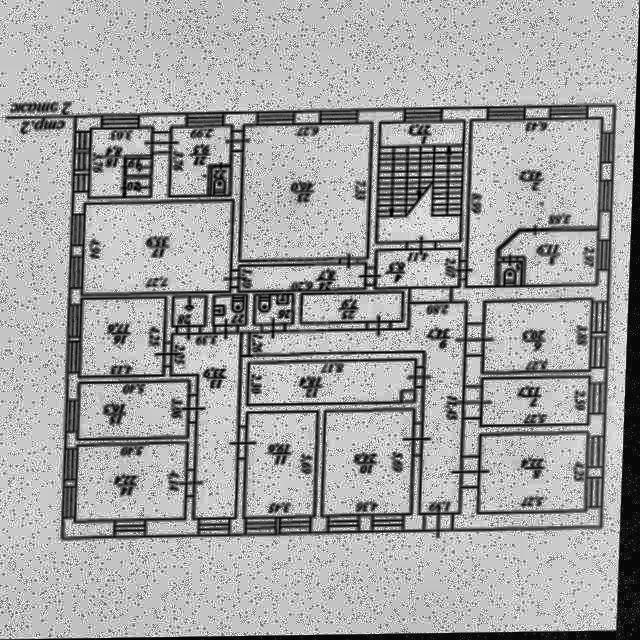room: (248, 300, 468, 516), (468, 117, 603, 291), (241, 125, 371, 264), (84, 203, 235, 294), (170, 333, 243, 520), (378, 121, 464, 245), (326, 412, 418, 515), (482, 436, 593, 514), (78, 446, 190, 521), (248, 412, 320, 519), (485, 302, 594, 372), (250, 361, 420, 405), (81, 299, 170, 376), (80, 383, 192, 439), (502, 233, 600, 287), (484, 379, 592, 427), (91, 128, 153, 198), (172, 127, 232, 197), (241, 266, 367, 292), (377, 250, 460, 288), (305, 295, 405, 324), (257, 295, 296, 325), (175, 297, 209, 327), (216, 297, 250, 326), (214, 168, 231, 196), (502, 264, 522, 287), (127, 179, 152, 196), (128, 160, 152, 176)
